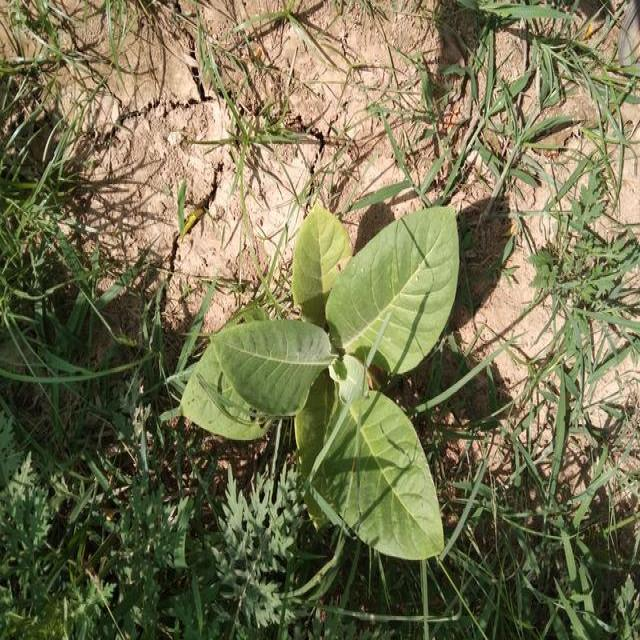crop: (200, 226, 460, 564)
